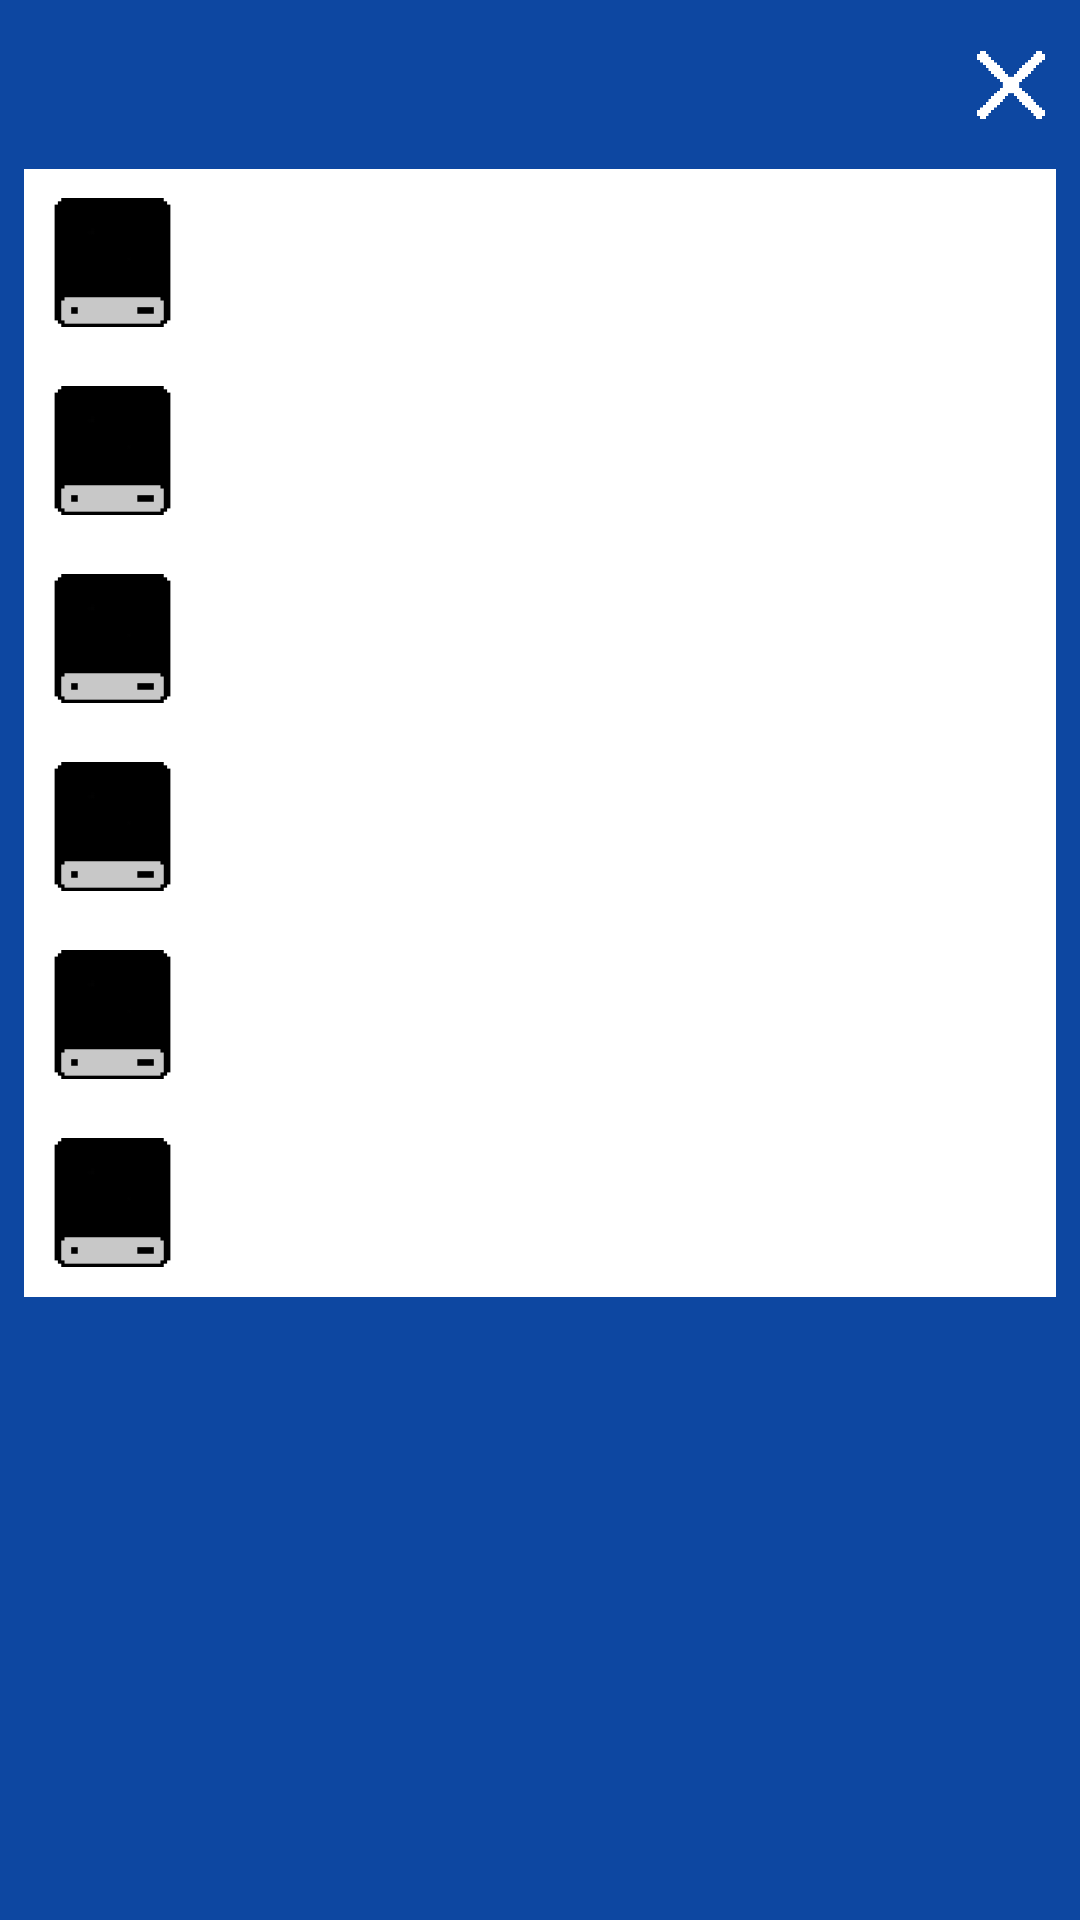

Point at icon controls on the screen. Image size 1080×1920, points as (x=x, y=y).
close: (x=1011, y=85)
hdd card: (x=112, y=262), (x=112, y=450), (x=112, y=638), (x=112, y=826), (x=112, y=1014), (x=112, y=1202)
